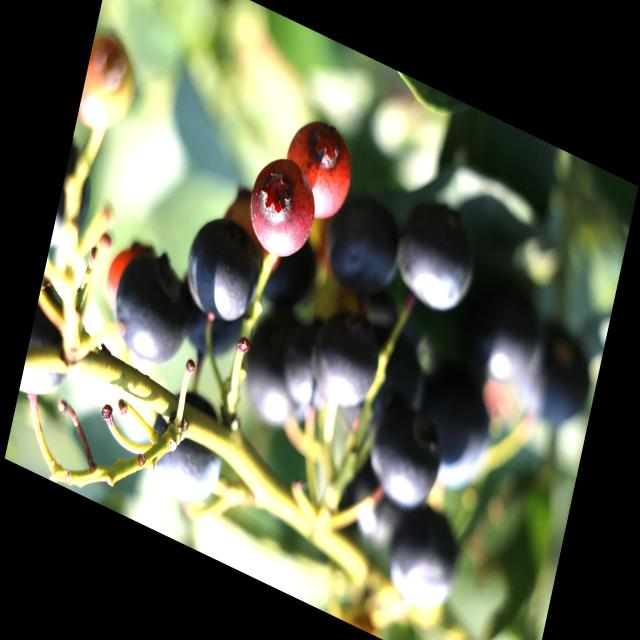blueberry: (278, 290, 384, 440), (407, 351, 502, 506), (105, 238, 201, 377), (514, 312, 604, 458), (386, 196, 484, 328), (142, 380, 237, 516), (234, 292, 314, 433), (462, 266, 548, 396), (179, 211, 267, 337), (319, 186, 403, 308), (361, 404, 446, 520), (383, 496, 465, 616), (20, 292, 90, 411)
blueberry-halfripe: (239, 146, 324, 272), (272, 110, 357, 231), (77, 27, 146, 142)
